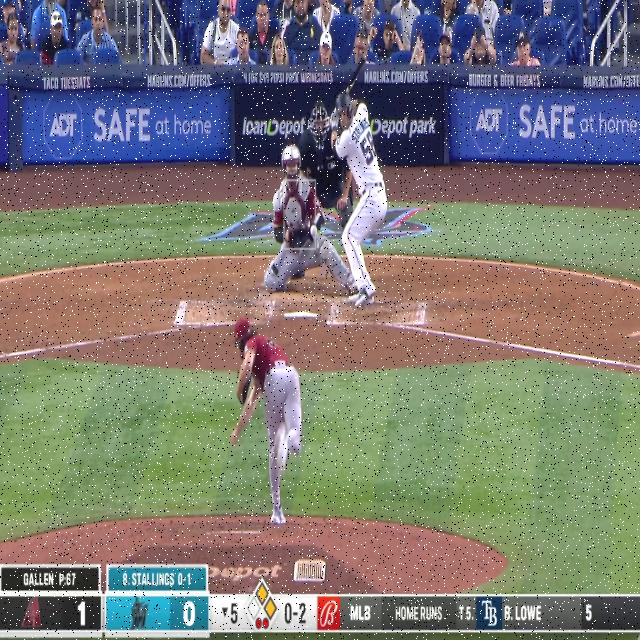baseball: (310, 224, 318, 238)
